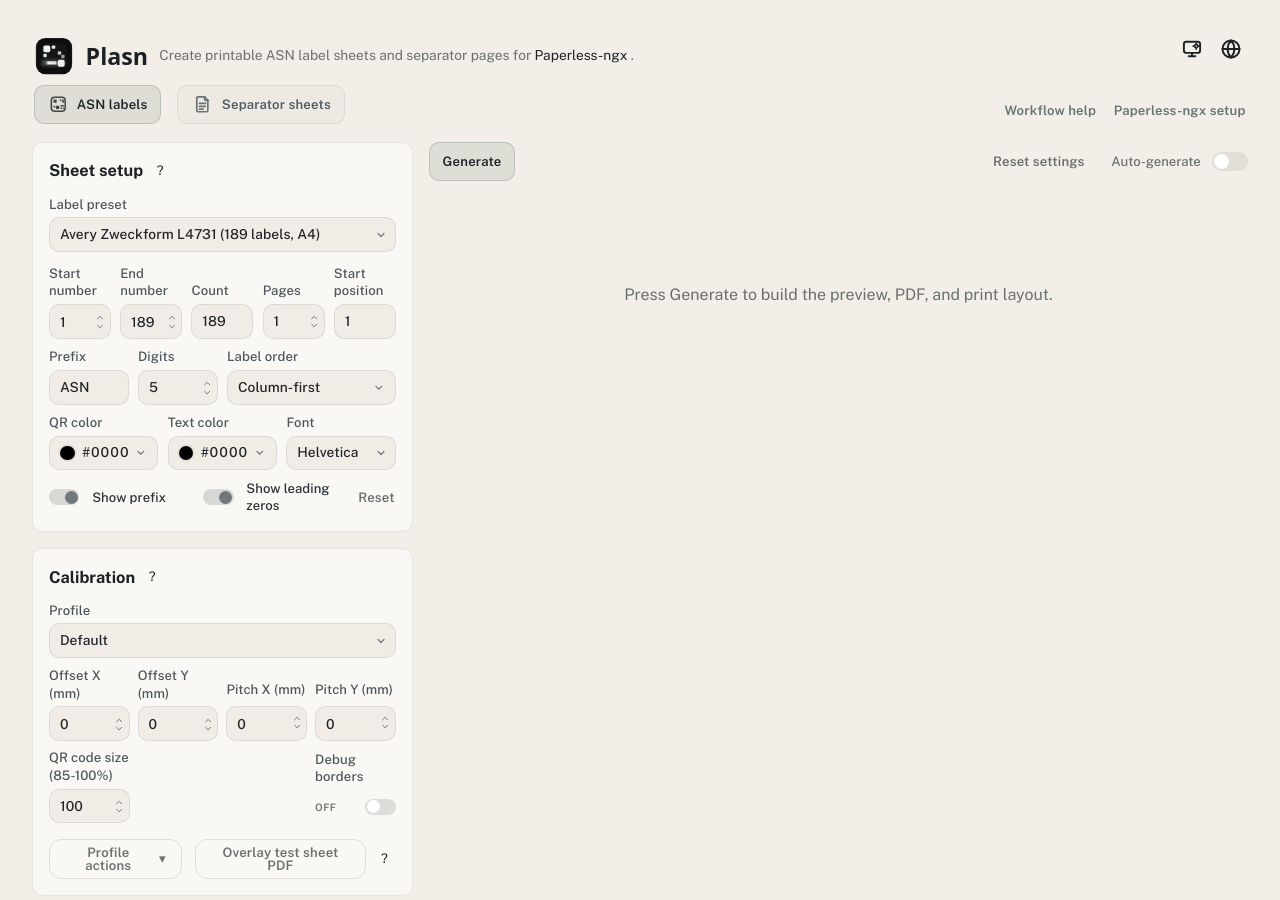
App › opens the workflow help modal in german UI
Click the button named "Deutsch".
click(1231, 49)  # box left=1217, top=35, right=1246, bottom=64
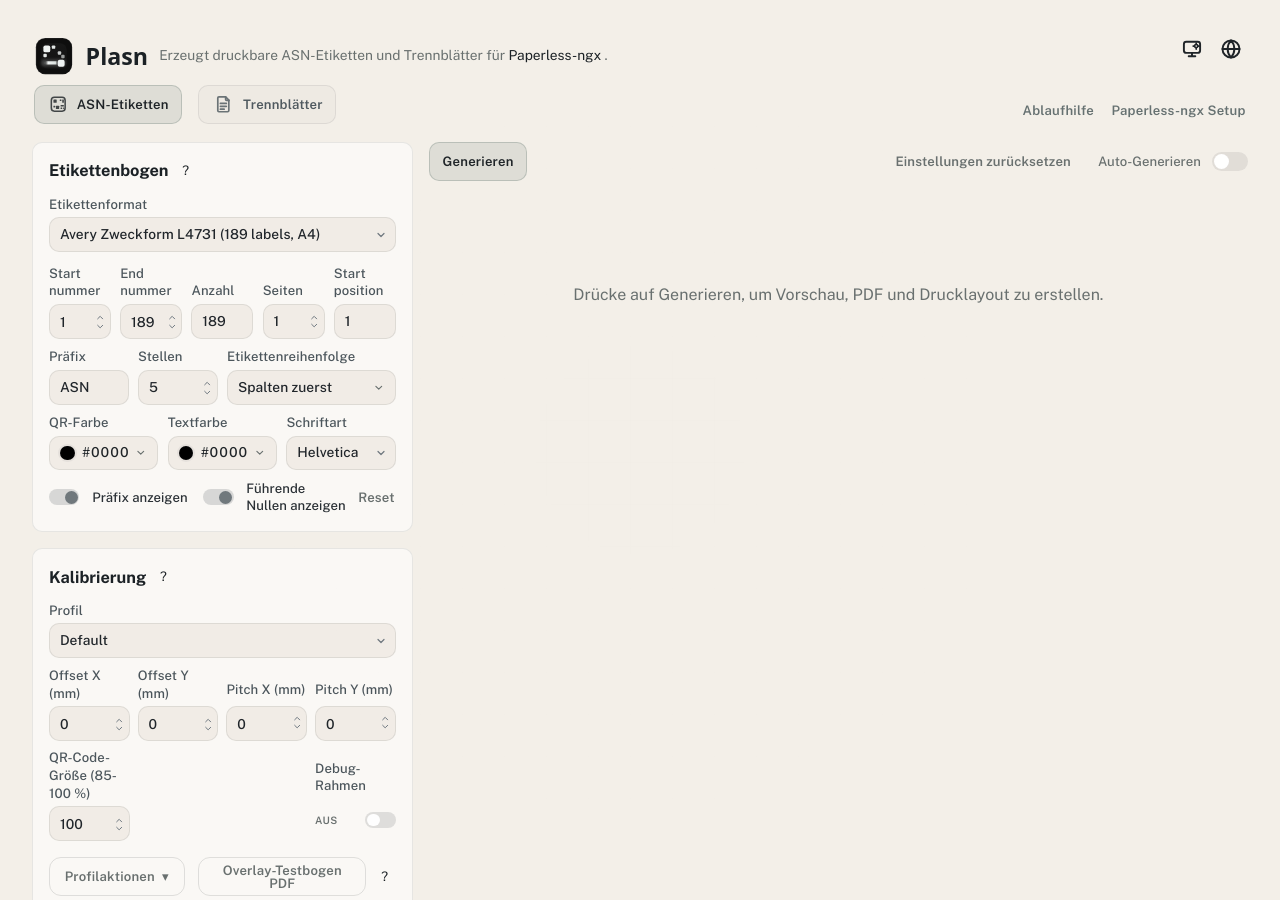
Click the button "Ablaufhilfe".
click(1058, 114)  # box left=1022, top=104, right=1094, bottom=124
(page scrolled)
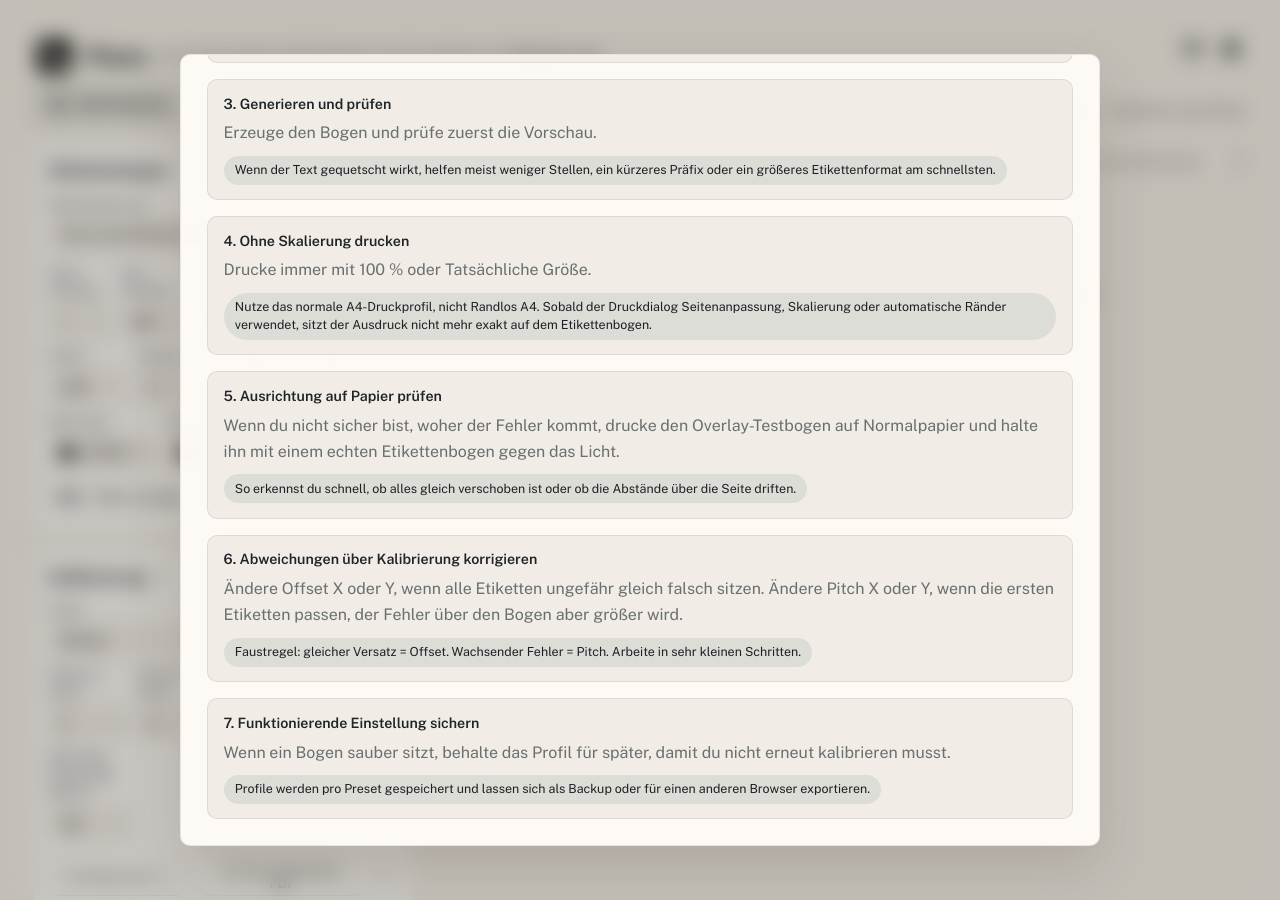
Expected: the text "wenn alle Etiketten ungefähr gleich falsch sitzen" is shown, left=224, top=579, right=1054, bottom=624
